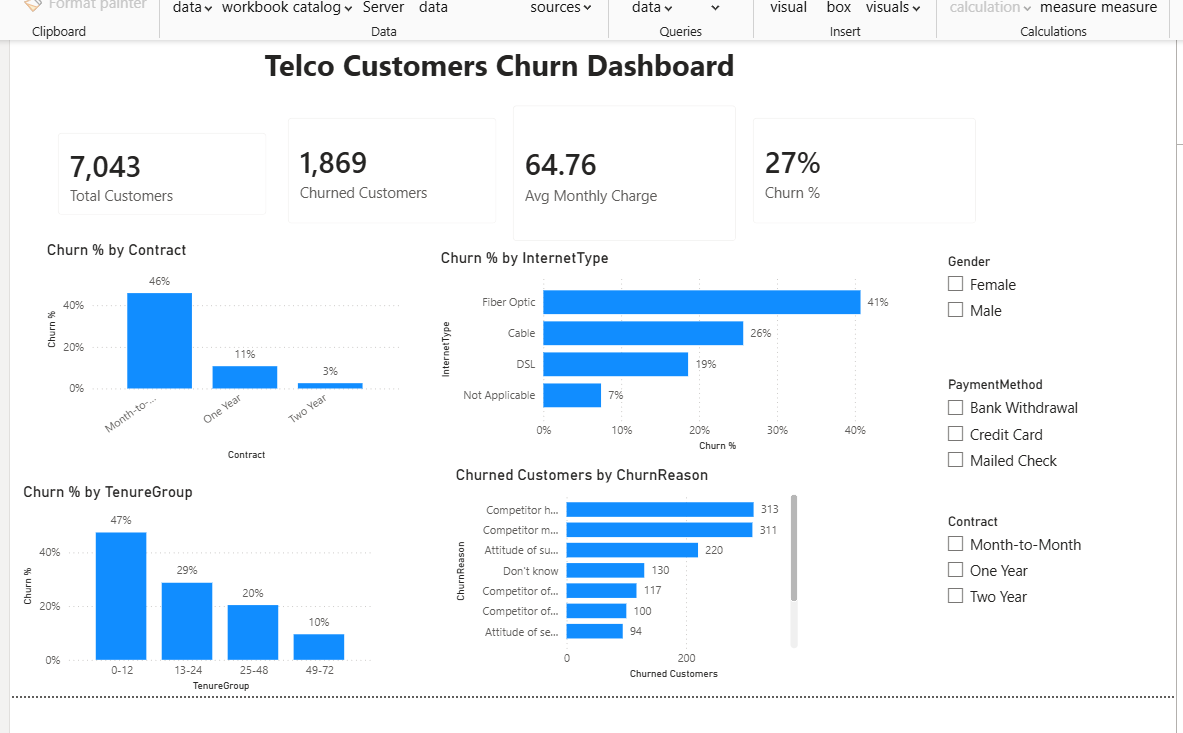

Layout of this report page (visuals, bound fields, positions):
{"tool":"powerbi","page":{"name":"Page 1","canvas":[1280,720],"ordinal":0},"visuals":[{"type":"cardVisual","fields":{"Data":["powerbi_churn.Avg Monthly Charge"]},"box":[535.2,54.9,279.9,183.9],"z":0},{"type":"cardVisual","fields":{"Data":["powerbi_churn.Churn %"]},"box":[798.6,68.6,279.9,150.9],"z":1000},{"type":"clusteredColumnChart","fields":{"Category":["powerbi_churn.Contract"],"Y":["powerbi_churn.Churn %"]},"box":[35.7,219.6,397.9,247],"z":2000},{"type":"clusteredColumnChart","fields":{"Category":["powerbi_churn.TenureGroup"],"Y":["powerbi_churn.Churn %"]},"box":[9.6,485.8,393.8,234.6],"z":3000},{"type":"barChart","fields":{"Category":["powerbi_churn.InternetType"],"Y":["powerbi_churn.Churn %"]},"box":[467.9,229.2,517.3,227.8],"z":4000},{"type":"barChart","fields":{"Category":["powerbi_churn.ChurnReason"],"Y":["powerbi_churn.Churned Customers"]},"box":[484.4,466.6,385.6,240.1],"z":5000},{"type":"slicer","fields":{"Values":["powerbi_churn.PaymentMethod"]},"box":[1016.8,365,263.5,134.5],"z":6000},{"type":"cardVisual","fields":{"Data":["powerbi_churn.Churned Display"]},"box":[288.2,68.6,263.5,150.9],"z":7000},{"type":"slicer","fields":{"Values":["powerbi_churn.Gender"]},"box":[1016.8,229.2,263.5,135.8],"z":8000},{"type":"slicer","fields":{"Values":["powerbi_churn.Contract"]},"box":[1016.8,514.6,263.5,150.9],"z":9000},{"type":"cardVisual","fields":{"Data":["powerbi_churn.Total Customers Display"]},"box":[35.7,85.1,263.5,124.9],"z":10000},{"type":"textbox","box":[274.4,0,701.2,54.9],"z":11000}]}

Visuals, with their boxes on the page's 1280x720 design canvas (x1, y1, x2, y2). These are canvas units, not pixel positions in the 1183x733 screenshot, which may show the page scaled, cropped or inside an application window:
cardVisual - powerbi_churn.Avg Monthly Charge: <region>535, 55, 815, 239</region>
cardVisual - powerbi_churn.Churn %: <region>799, 69, 1078, 220</region>
clusteredColumnChart - powerbi_churn.Contract x powerbi_churn.Churn %: <region>36, 220, 434, 467</region>
clusteredColumnChart - powerbi_churn.TenureGroup x powerbi_churn.Churn %: <region>10, 486, 403, 720</region>
barChart - powerbi_churn.InternetType x powerbi_churn.Churn %: <region>468, 229, 985, 457</region>
barChart - powerbi_churn.ChurnReason x powerbi_churn.Churned Customers: <region>484, 467, 870, 707</region>
slicer - powerbi_churn.PaymentMethod: <region>1017, 365, 1280, 500</region>
cardVisual - powerbi_churn.Churned Display: <region>288, 69, 552, 220</region>
slicer - powerbi_churn.Gender: <region>1017, 229, 1280, 365</region>
slicer - powerbi_churn.Contract: <region>1017, 515, 1280, 666</region>
cardVisual - powerbi_churn.Total Customers Display: <region>36, 85, 299, 210</region>
textbox: <region>274, 0, 976, 55</region>
